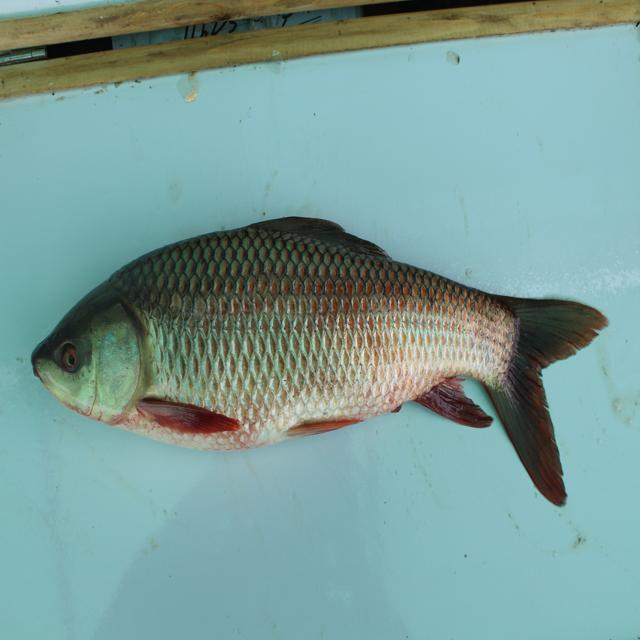Rohu: (20, 212, 588, 512)
